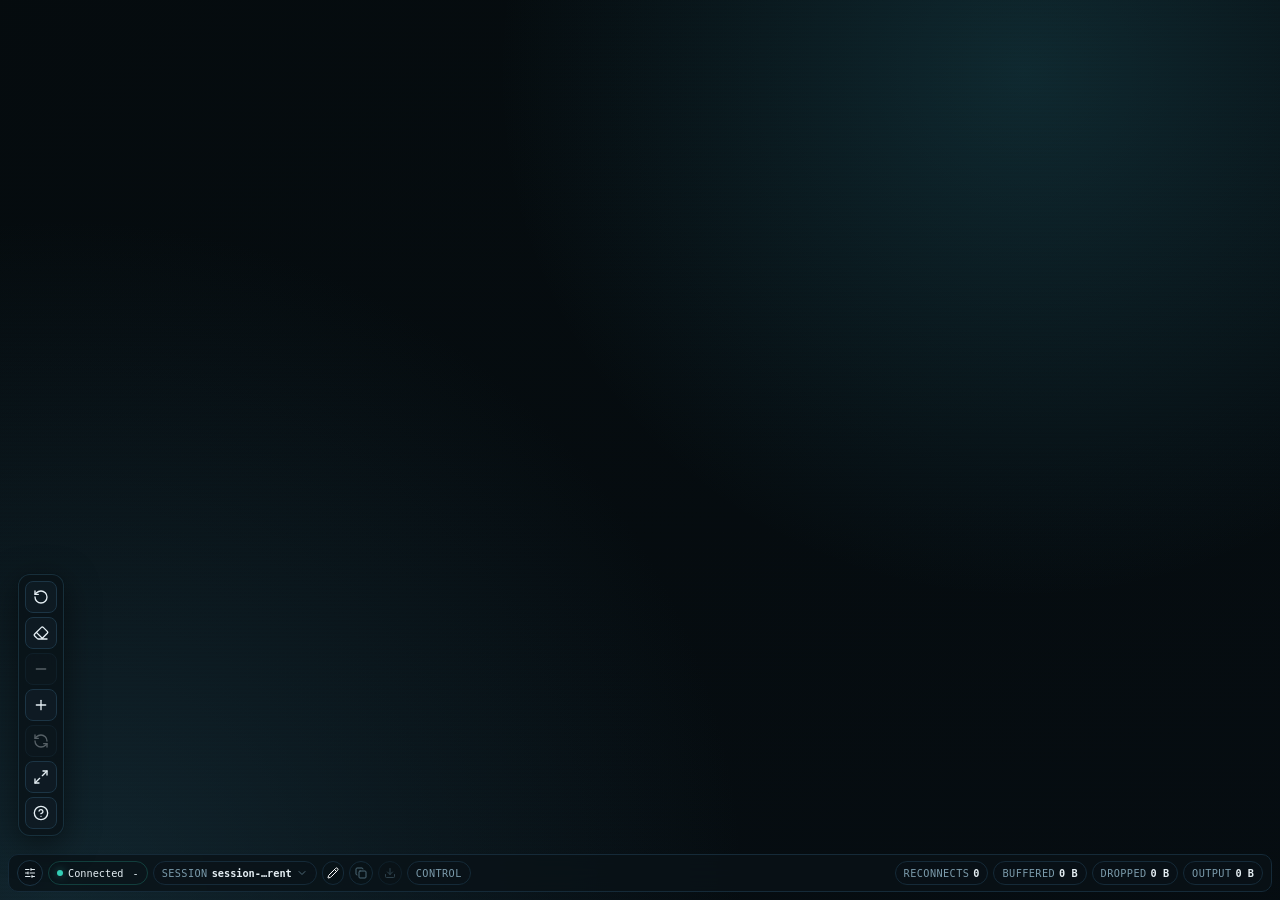
Test: App integration - session menu › shows recent session ids as unavailable when not running
Click the button with test id "session-menu-button": coordinates (235, 873) [153, 861, 317, 885]
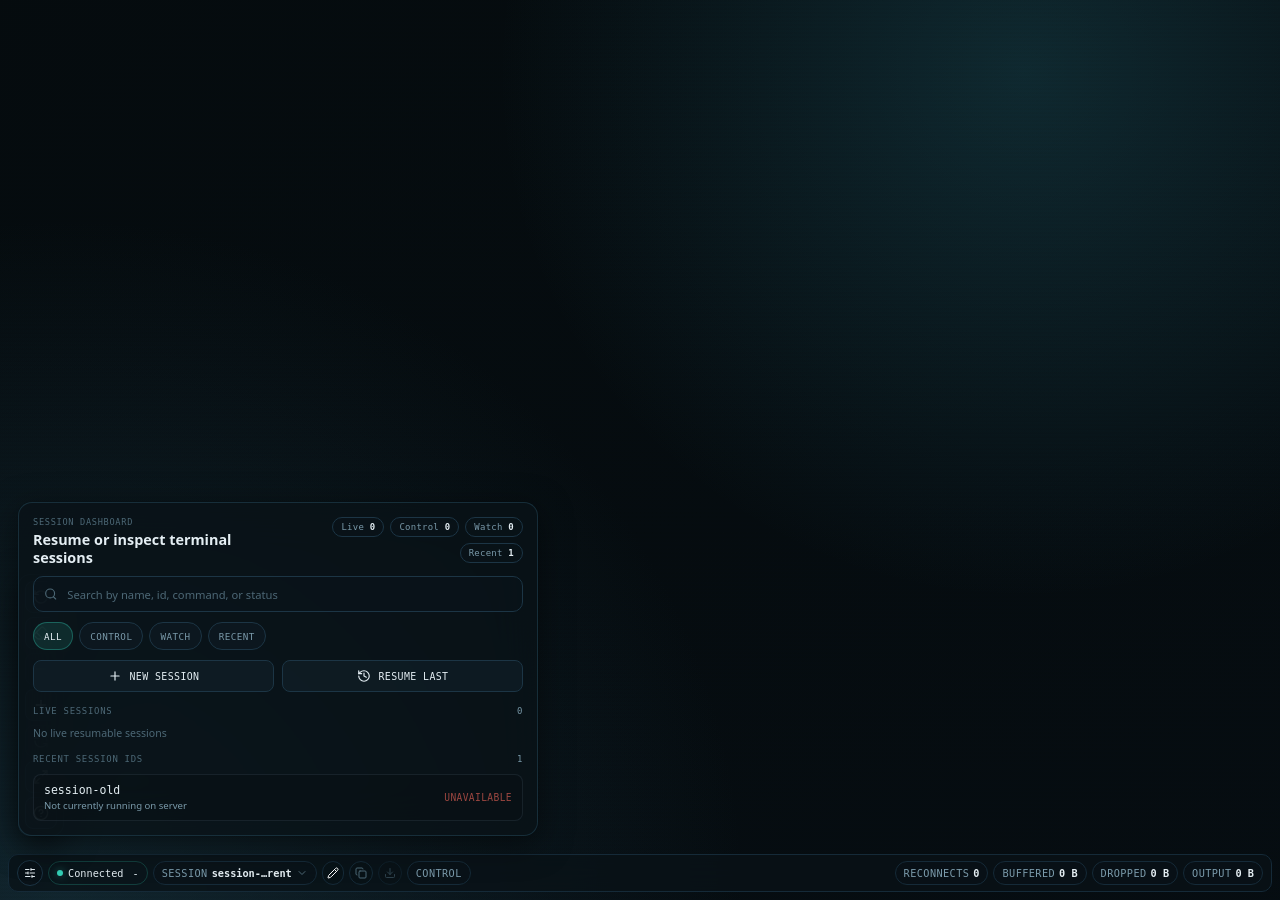
Result: the text "Live sessions" is shown at [33, 706, 112, 716]
Result: the text "Recent session ids" is shown at [33, 754, 143, 764]
Result: the element with test id "session-menu-history-item" shows "Unavailable" at [444, 792, 512, 803]
